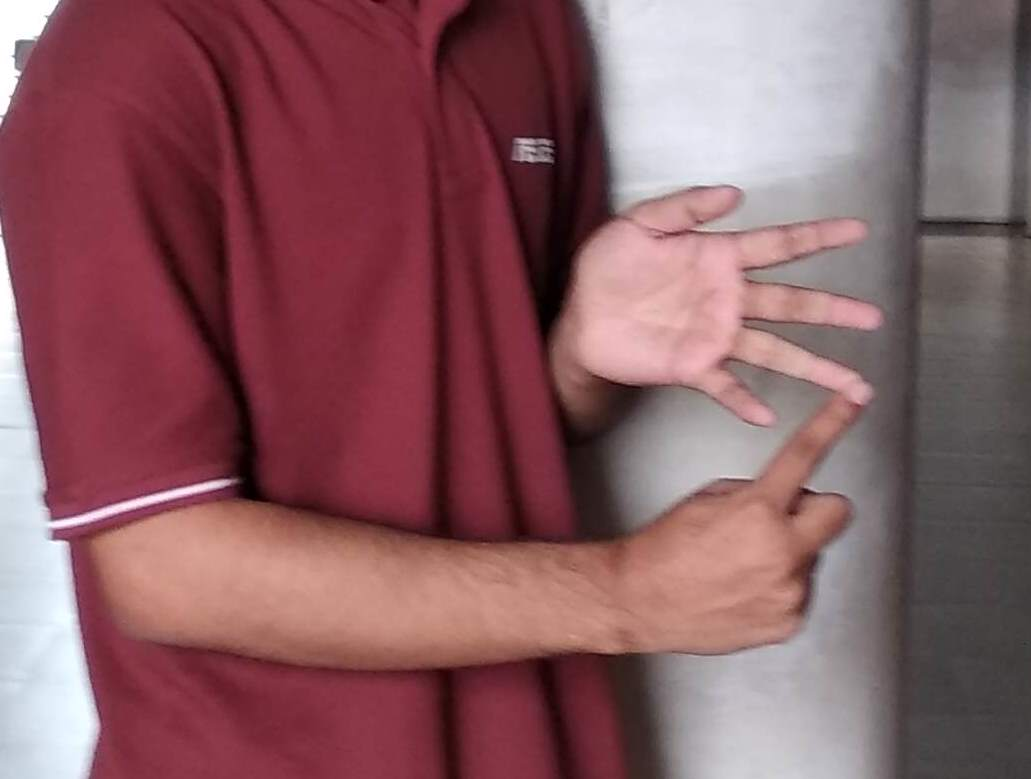e: (645, 184, 883, 559)
